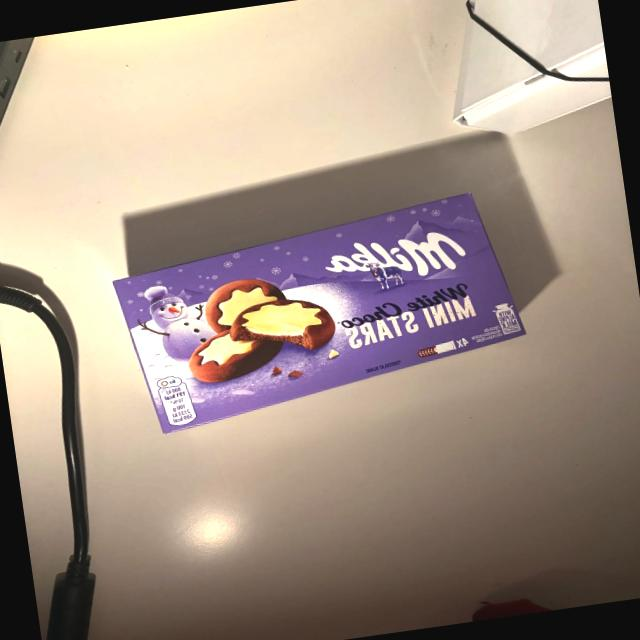good_package: (108, 182, 542, 441)
